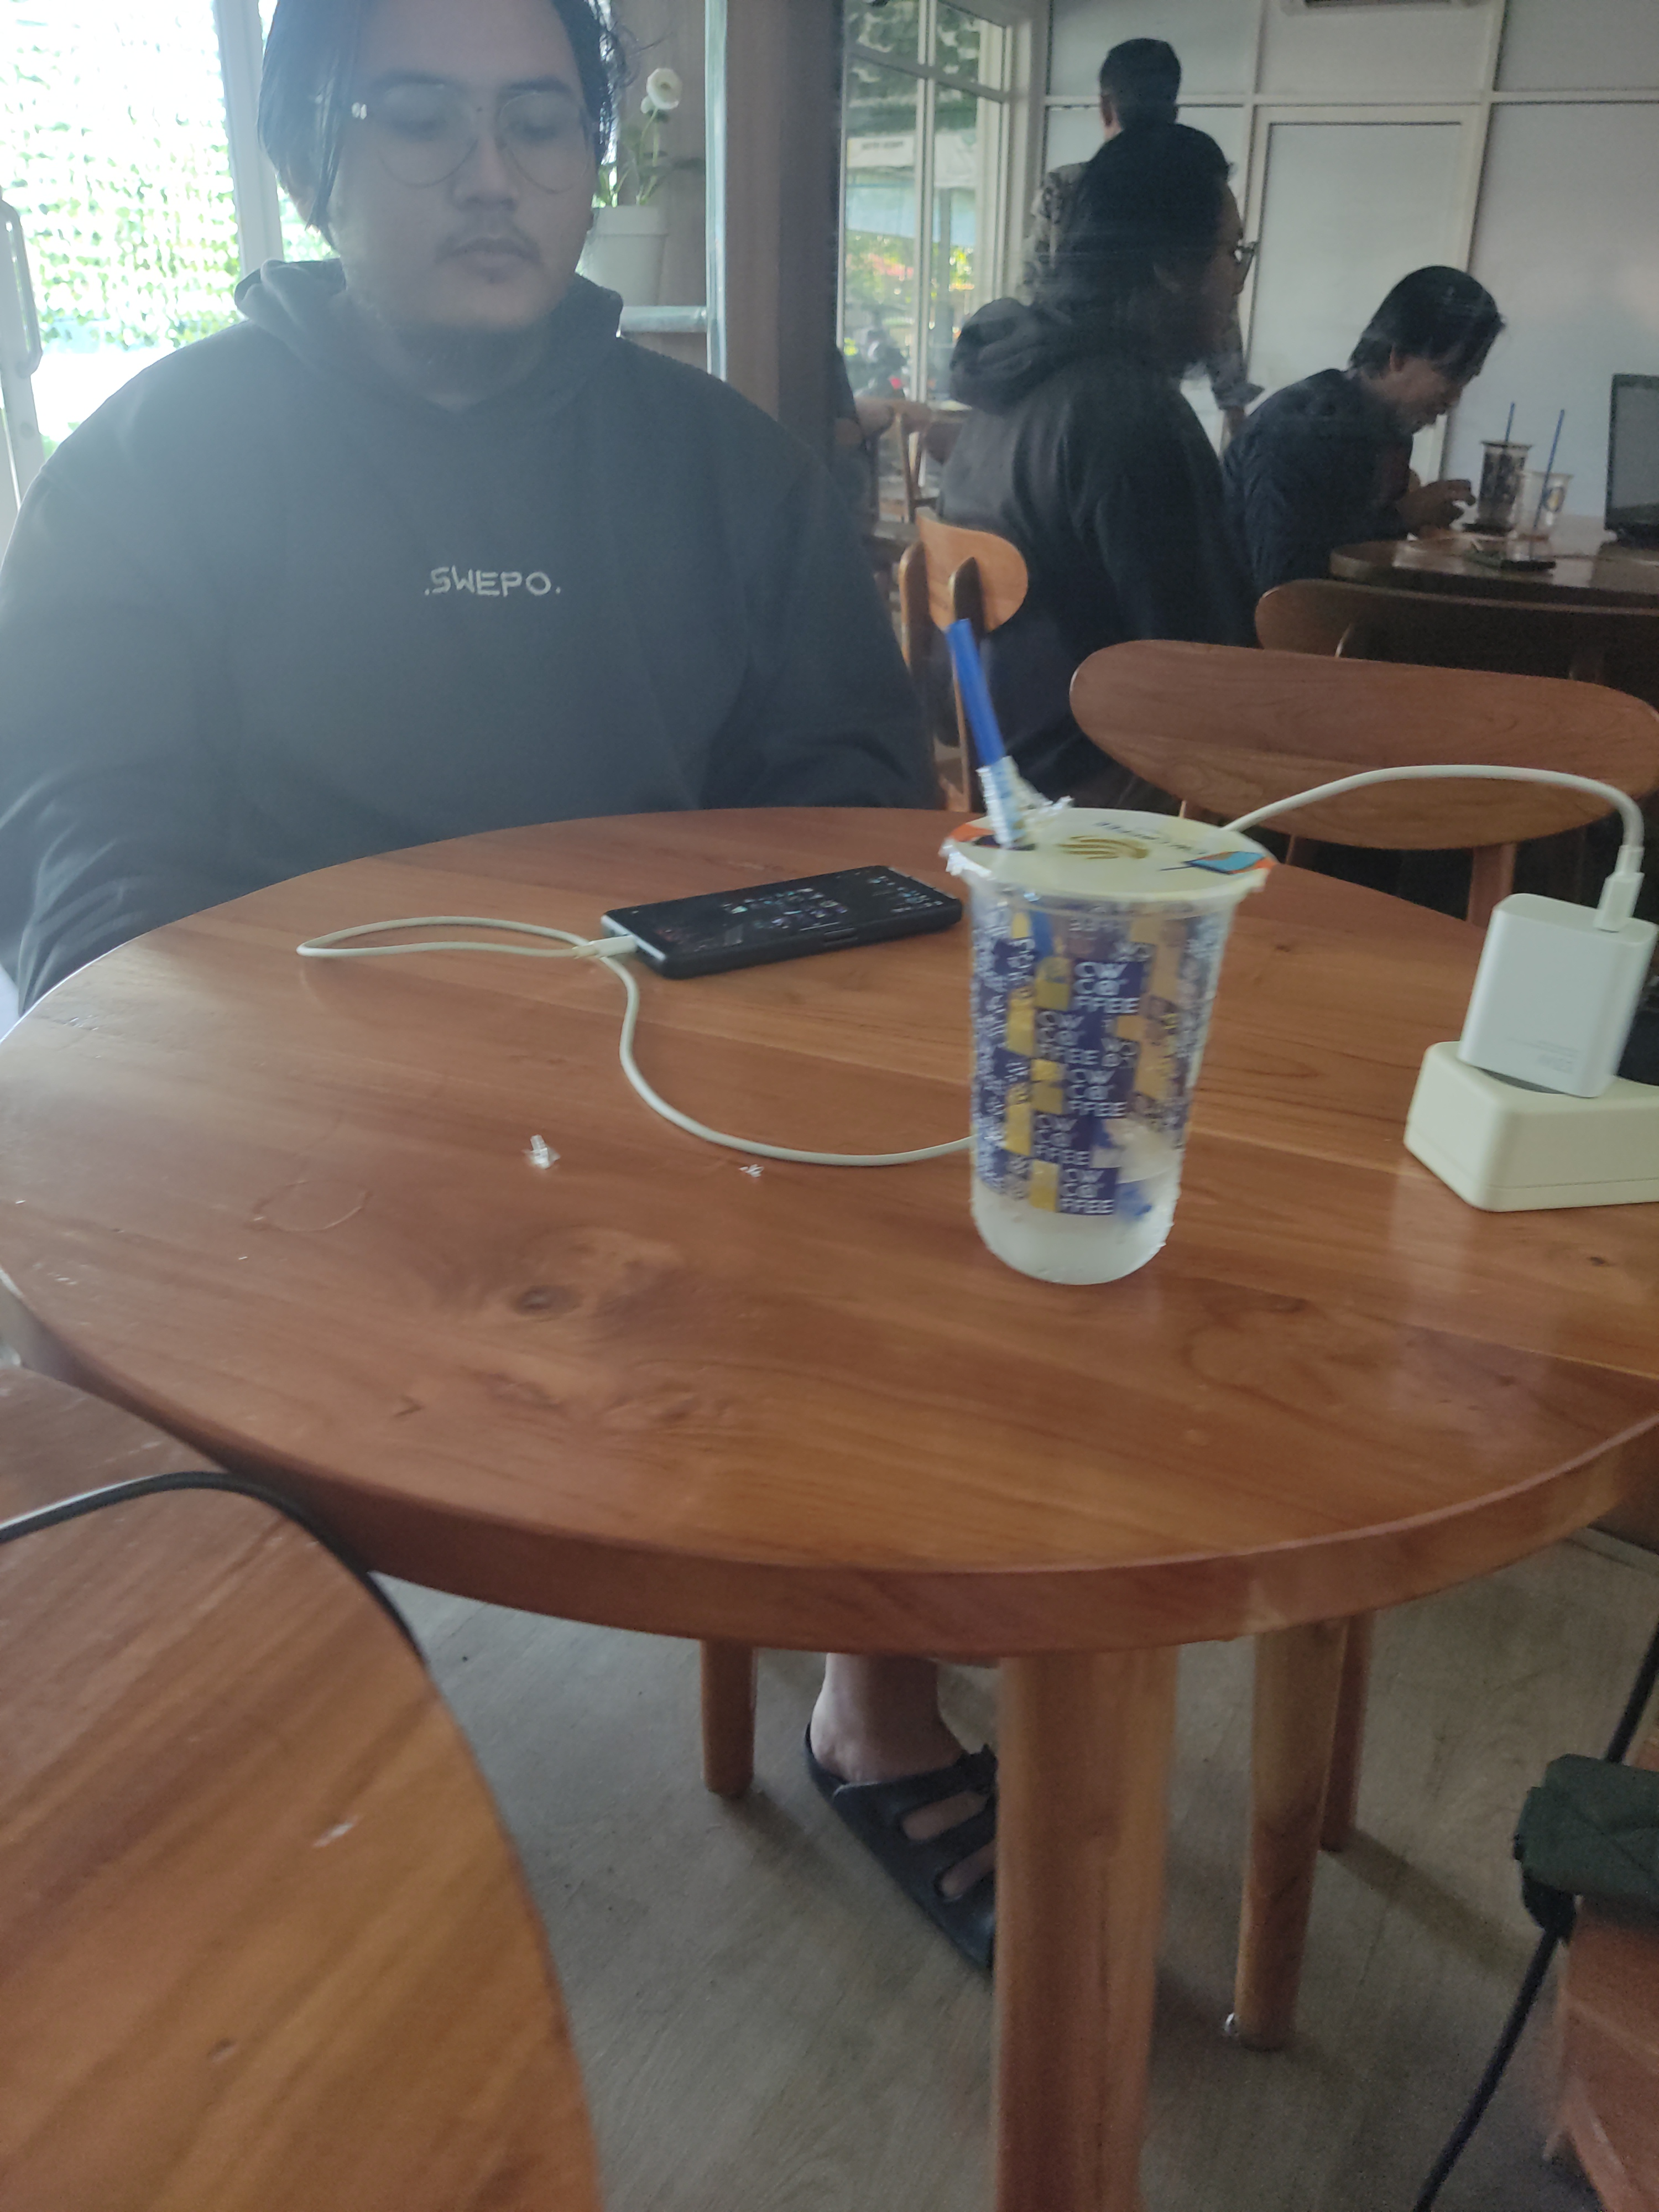Gelas CW: (941, 791, 1213, 1275)
